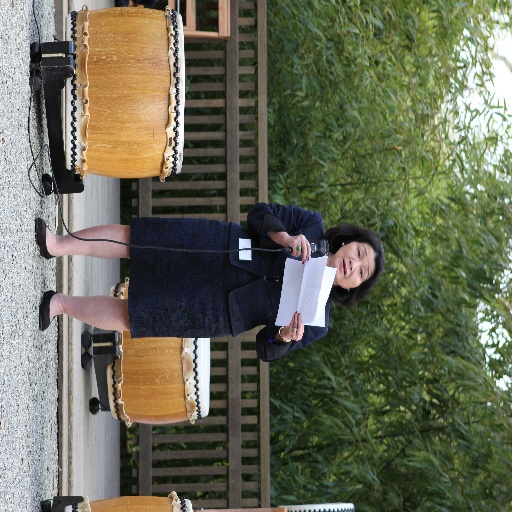hand: (274, 308, 310, 357), (285, 233, 311, 265)
